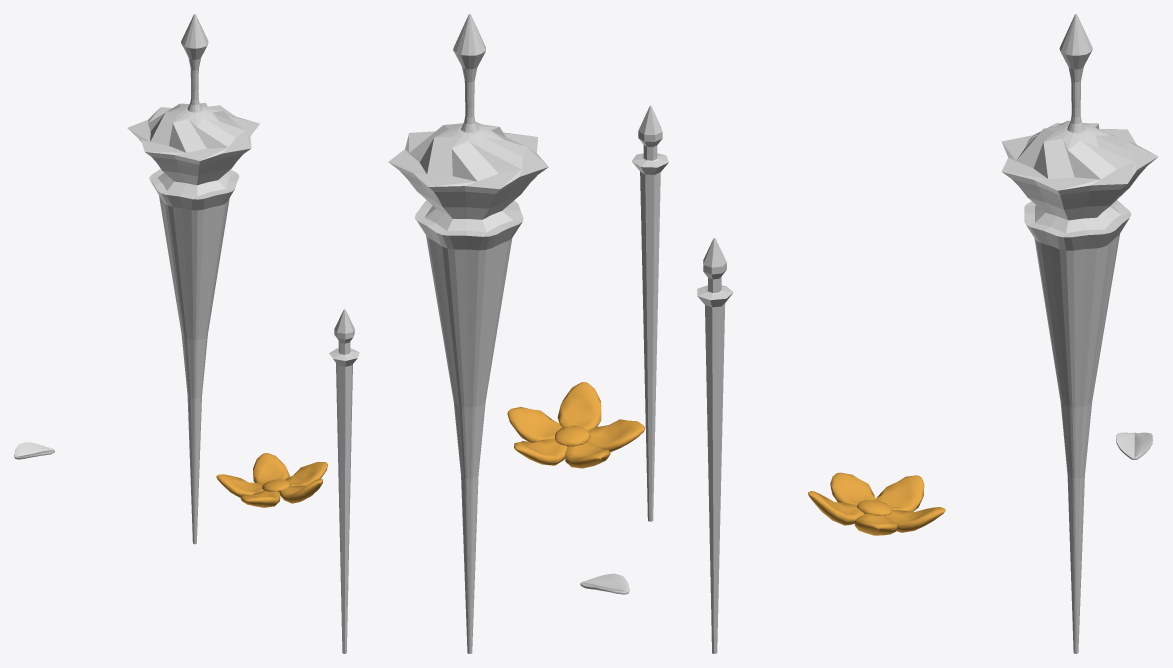
File: Asset.fbx
3 renders of one model, left to right at view 1: azimuth 30°, elevation 25°; view 2: azimuth 150°, elevation 25°; view 3: azimuth 270°, elevation 25°, orthographic. The views are drawn at different scales.
Visible parts, largest first — view 1: Cylinder.002, Cylinder.001, Flower.003, Pedal; view 2: Cylinder.002, Flower.003, Cylinder.001, Pedal; view 3: Cylinder.002, Cylinder.001, Flower.003, Pedal.
Boxes of the visible parts, x1,y1,x2,y2 form: Cylinder.002: [127, 14, 259, 544]; Cylinder.001: [329, 309, 359, 653]; Flower.003: [216, 453, 327, 507]; Pedal: [14, 442, 54, 459]; Cylinder.002: [388, 14, 548, 653]; Flower.003: [507, 382, 645, 468]; Cylinder.001: [631, 105, 668, 521]; Pedal: [580, 573, 629, 594]; Cylinder.002: [1001, 14, 1158, 653]; Cylinder.001: [697, 238, 733, 653]; Flower.003: [808, 472, 945, 535]; Pedal: [1116, 432, 1152, 459].
Size of the model in its own units: 432 by 1023 by 670.
